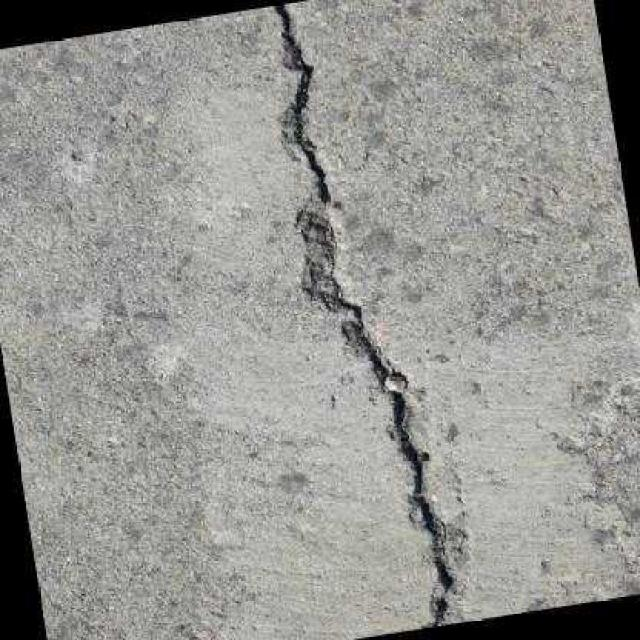D00: (320, 213, 451, 627), (271, 1, 333, 203)
